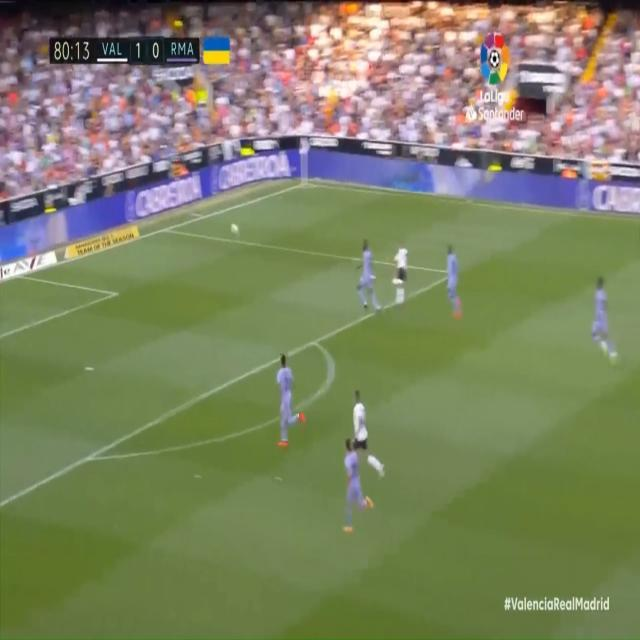ball: (230, 223, 240, 239)
player: (350, 387, 386, 479), (342, 432, 374, 533), (589, 270, 621, 370), (279, 350, 306, 449), (356, 239, 381, 316), (445, 237, 465, 324), (390, 239, 412, 305)
